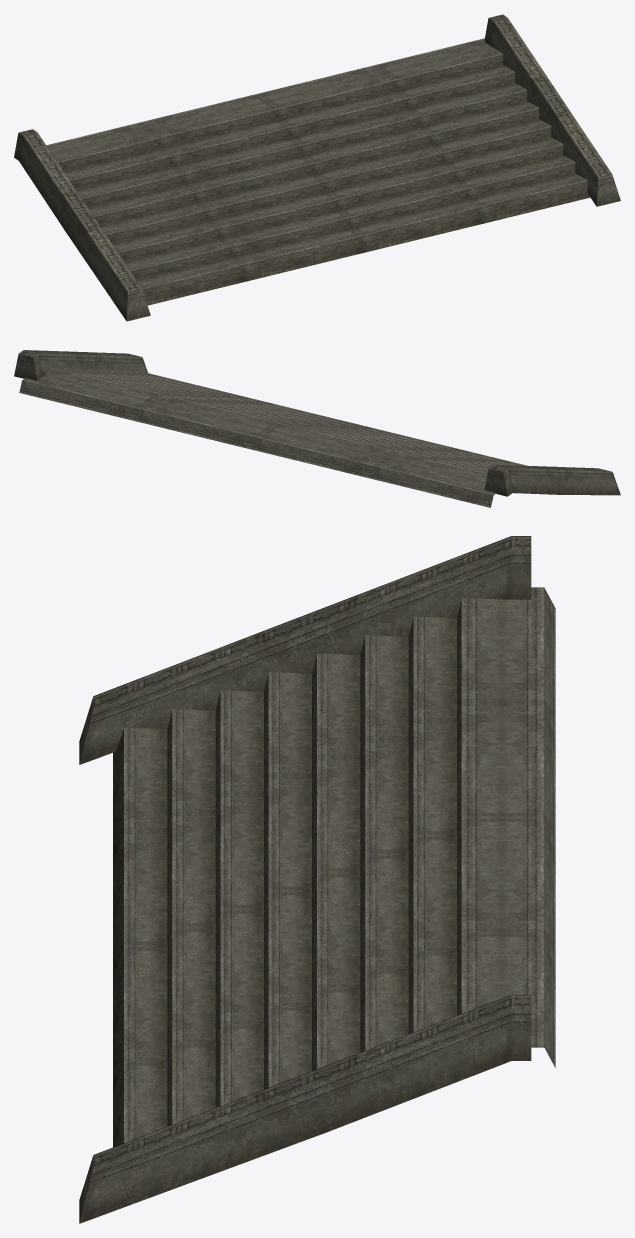
Rendered from dawnmist_step00.glb.
3 renders of one model, top to bottom at view 1: azimuth 30°, elevation 25°; view 2: azimuth 150°, elevation 25°; view 3: azimuth 270°, elevation 25°, orthographic. The views are drawn at different scales.
Visible parts, largest first — view 1: DawnMist_step01; view 2: DawnMist_step01; view 3: DawnMist_step01.
Part boxes in pixels (x1,y1,x2,y2): DawnMist_step01: [14, 14, 620, 321]; DawnMist_step01: [14, 350, 620, 507]; DawnMist_step01: [79, 536, 555, 1223].
Size of the model in its own units: 31.08 by 6.31 by 12.97.
1 material, 1 textured.
